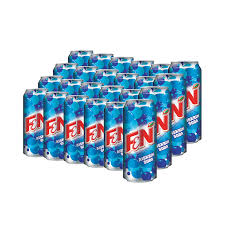can: (20, 49, 206, 183)
